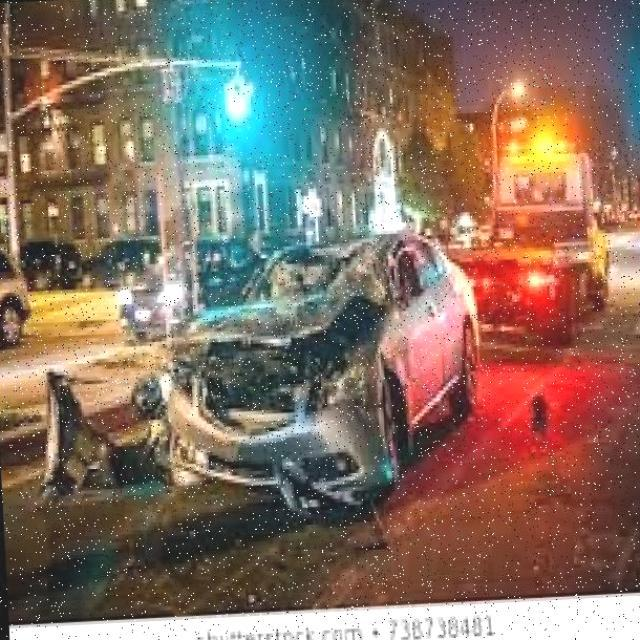accident: (120, 176, 452, 535)
